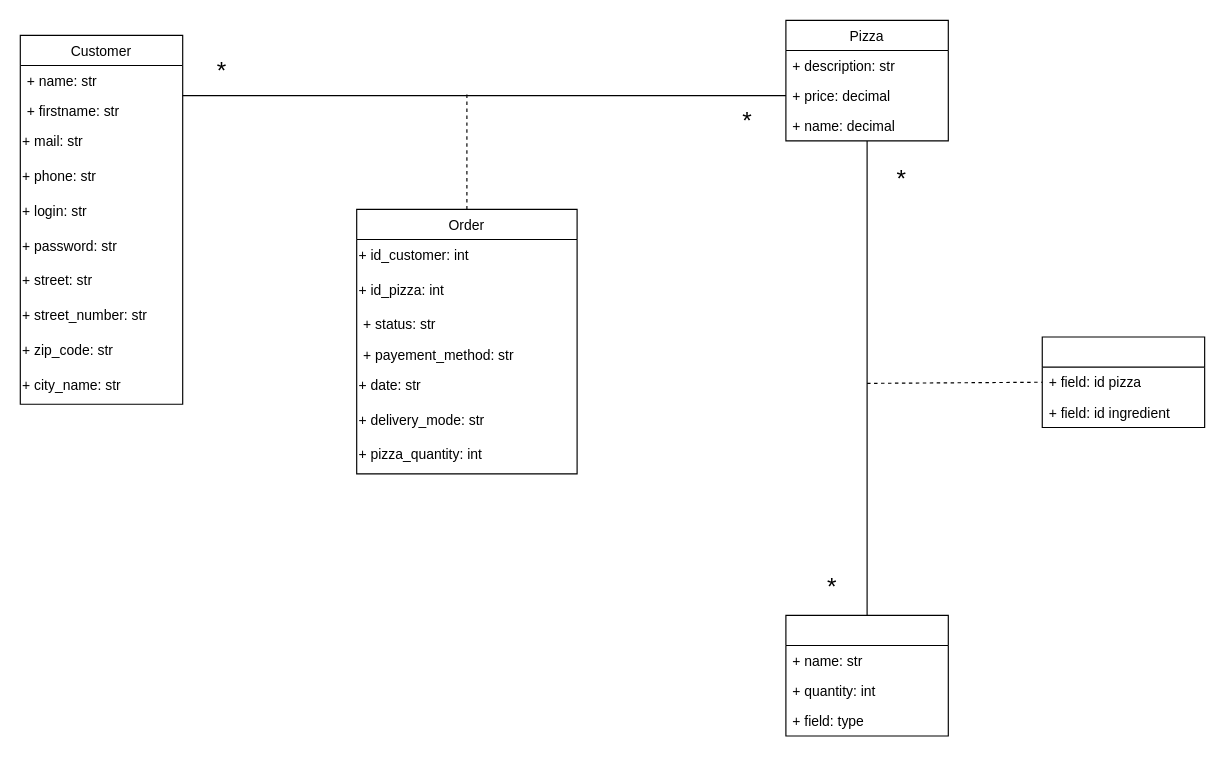
Image size: 1225x760. Some labels were removed from this diagram. Here are the shapes that lost their labels. From the top down, the box of each, then its label:
(1041, 336, 1205, 427): Recette
(785, 614, 948, 736): Ingredients
